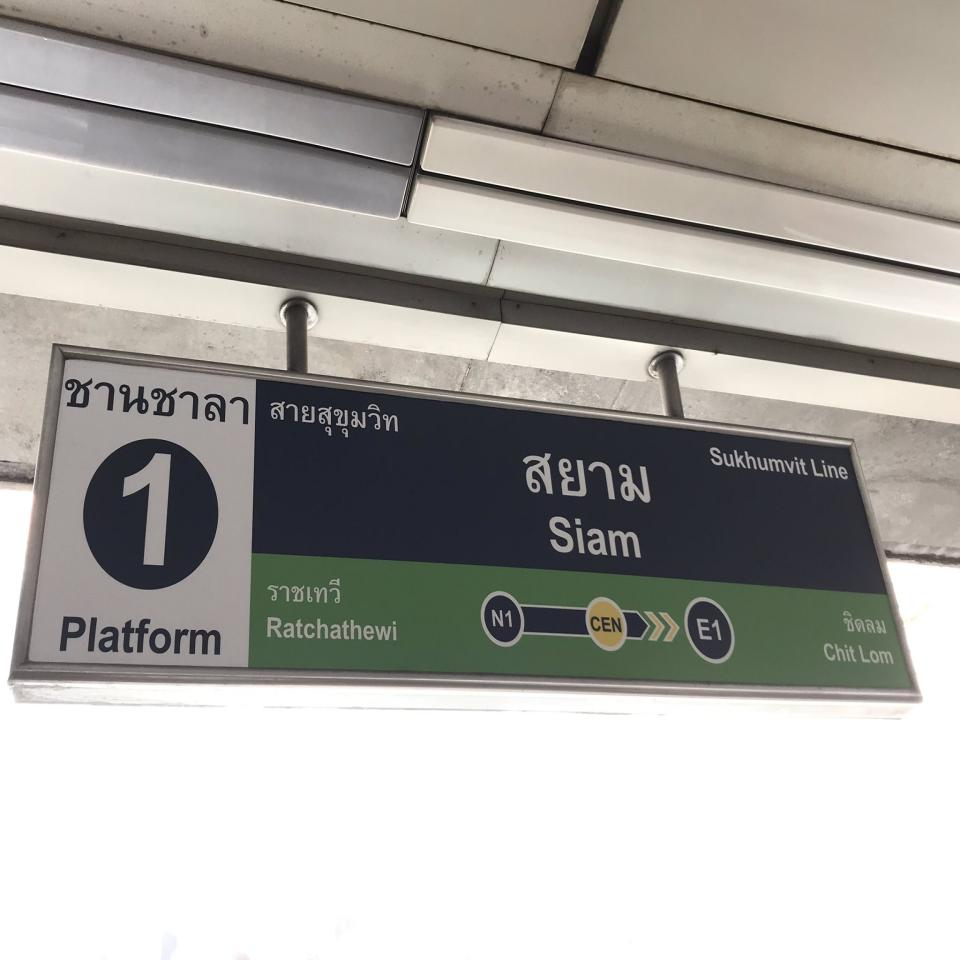signage: (479, 450, 737, 666)
